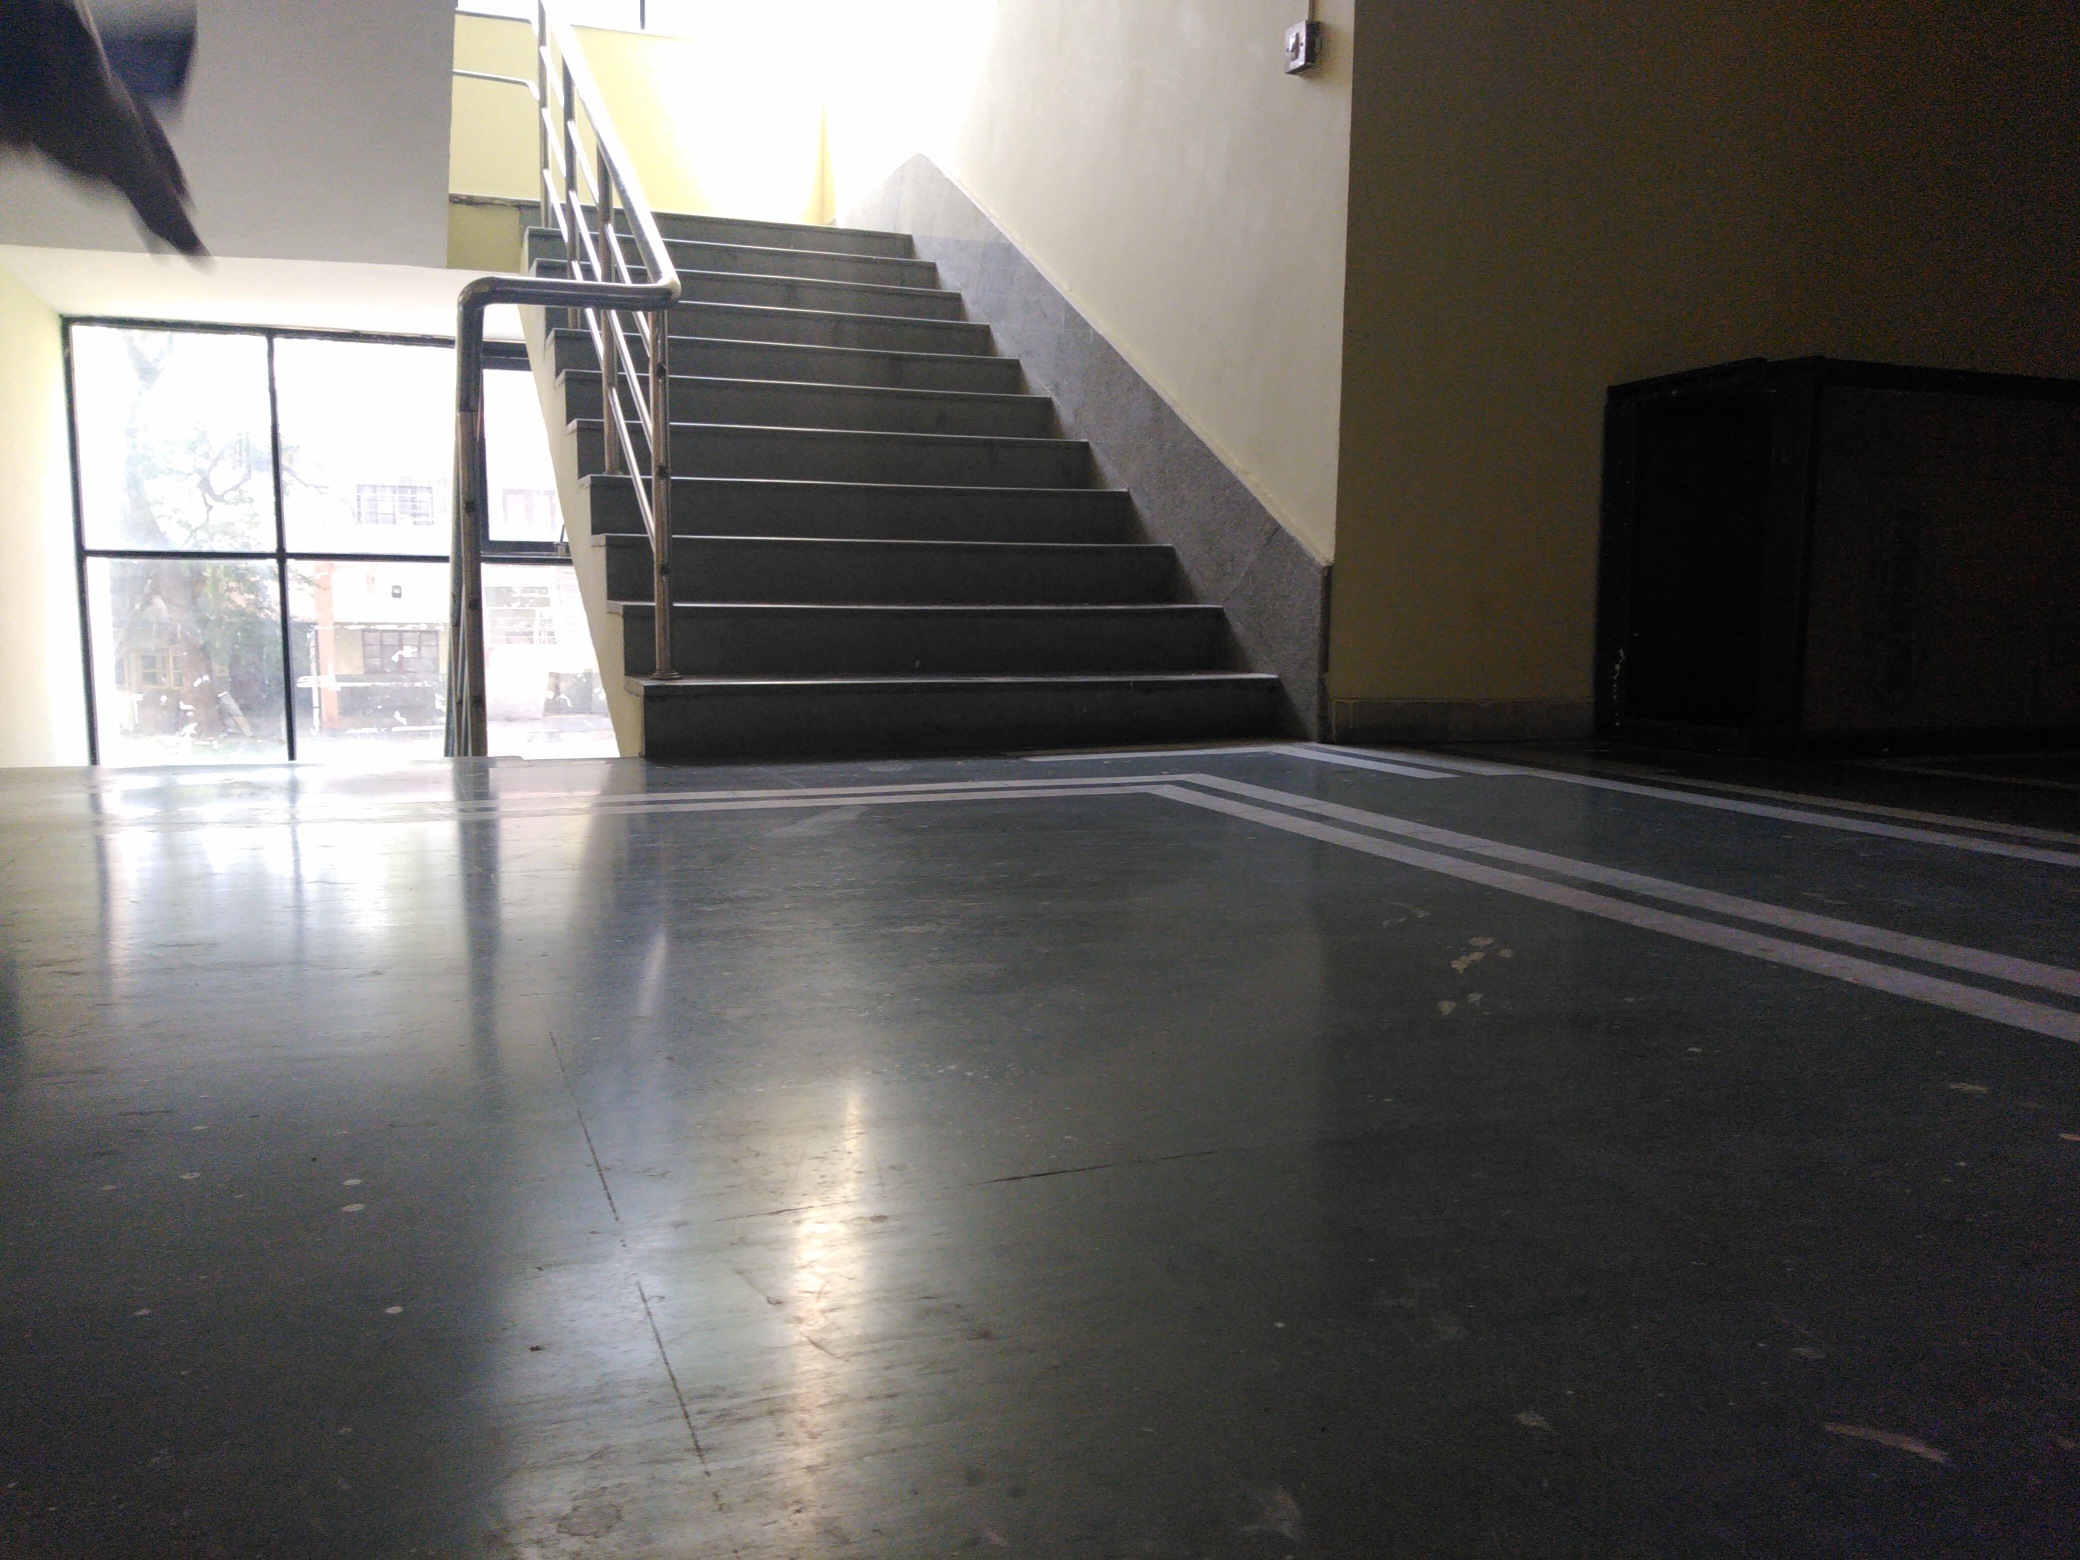stairs_up: (537, 192, 1264, 754)
